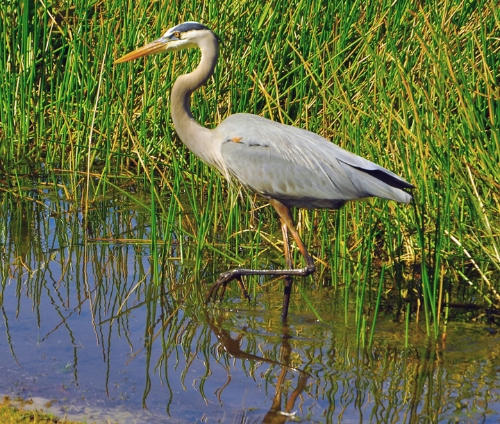heron: (106, 16, 427, 321)
